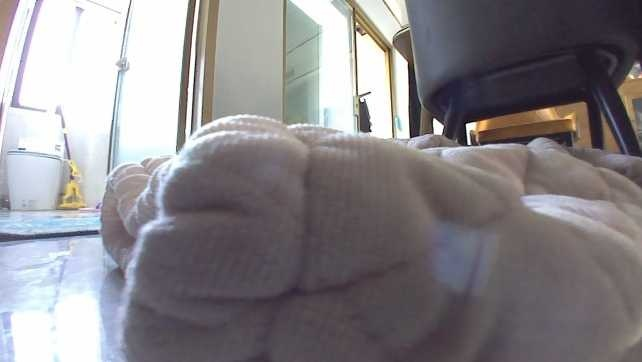door_anno: (99, 0, 215, 169)
toilet: (1, 132, 69, 211)
